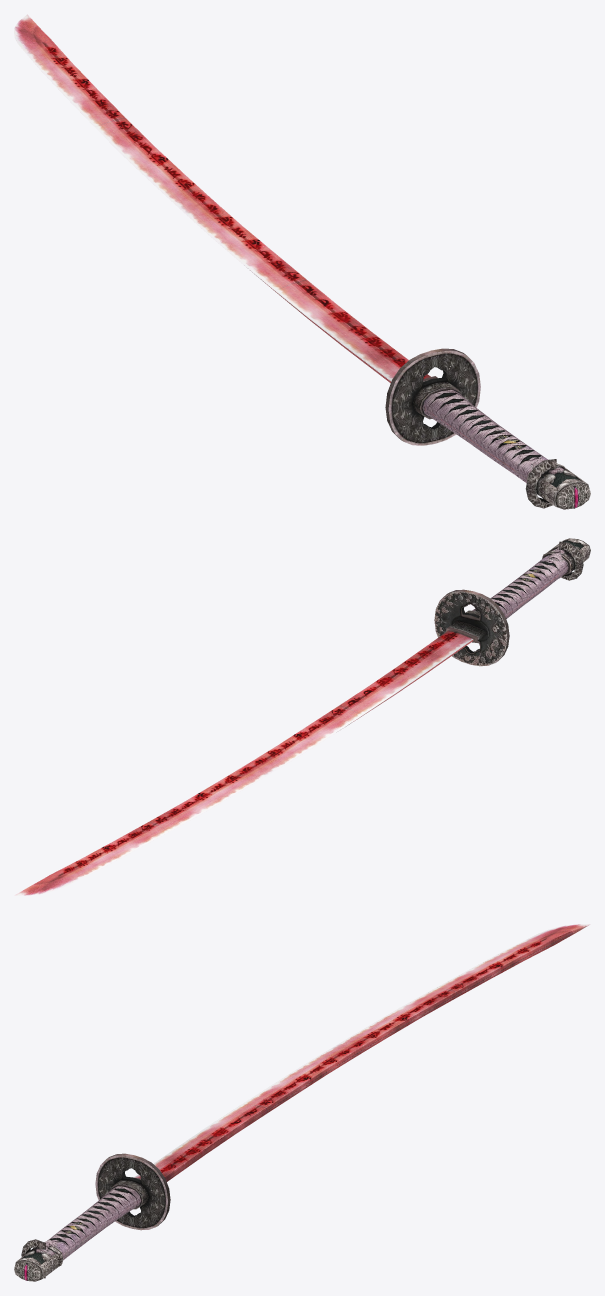
Rendered from sword_musashi_jpsword_musashi_alter_katana_effect_s.glb.
3 views of the same model, one above another, from view 1: azimuth 30°, elevation 25°; view 2: azimuth 150°, elevation 25°; view 3: azimuth 330°, elevation 25° (orthographic). The views are drawn at different scales.
Bounding box in the file's own units: 0.2024 × 0.1316 × 1.66.
1 material, 1 textured.
